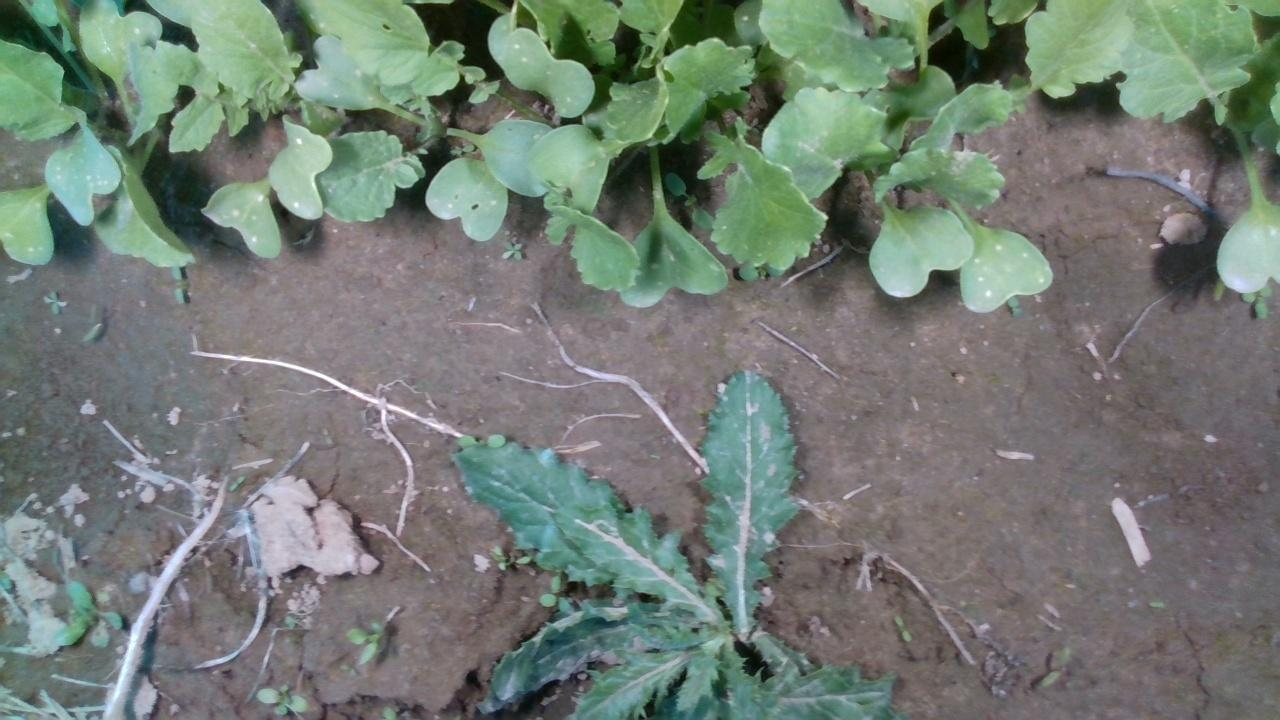weed: (1039, 646, 1071, 686), (80, 301, 103, 343), (41, 288, 66, 315), (169, 265, 185, 305), (892, 611, 911, 642), (500, 239, 522, 259)
